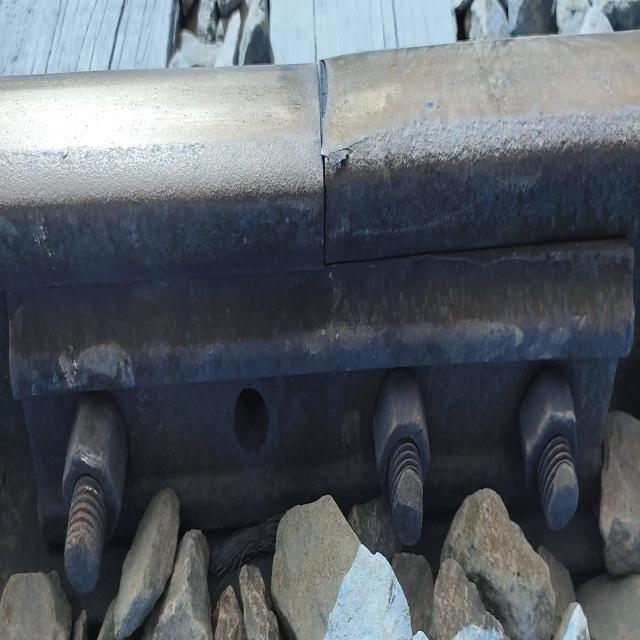Defective Joint: (6, 253, 633, 586)
